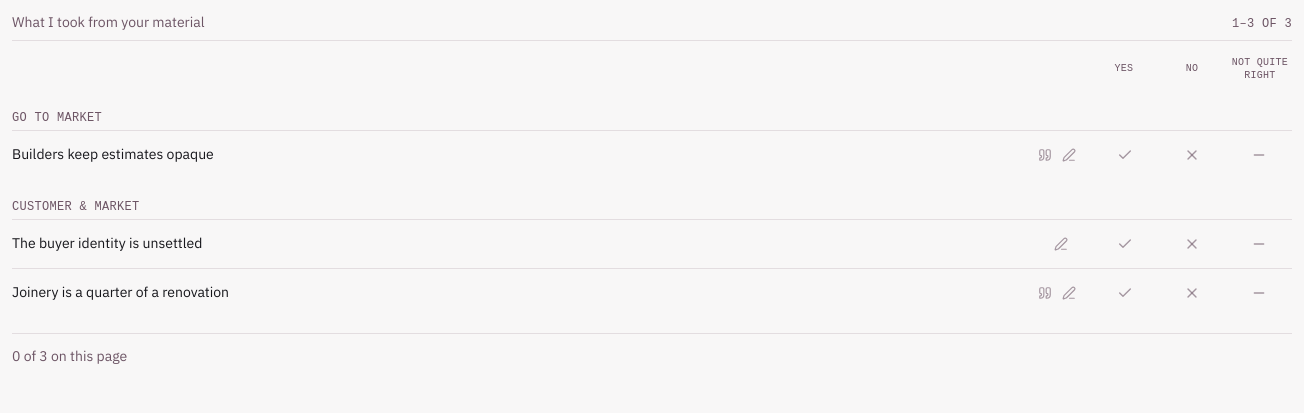
ReviewPass › list layout › opens a row receipt in place, and reports the reveal
Expected: the text "provisional sum" is not shown
Click the 1st button named "because you said": (1045, 155) [1034,144,1056,166]
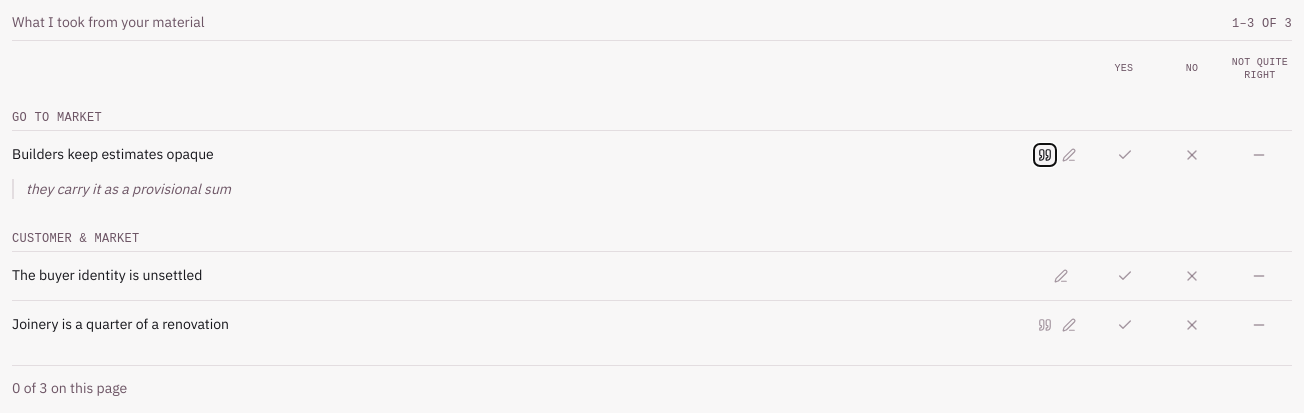
Expected: the text "they carry it as a provisional sum" is shown, [12,179,1292,199]
